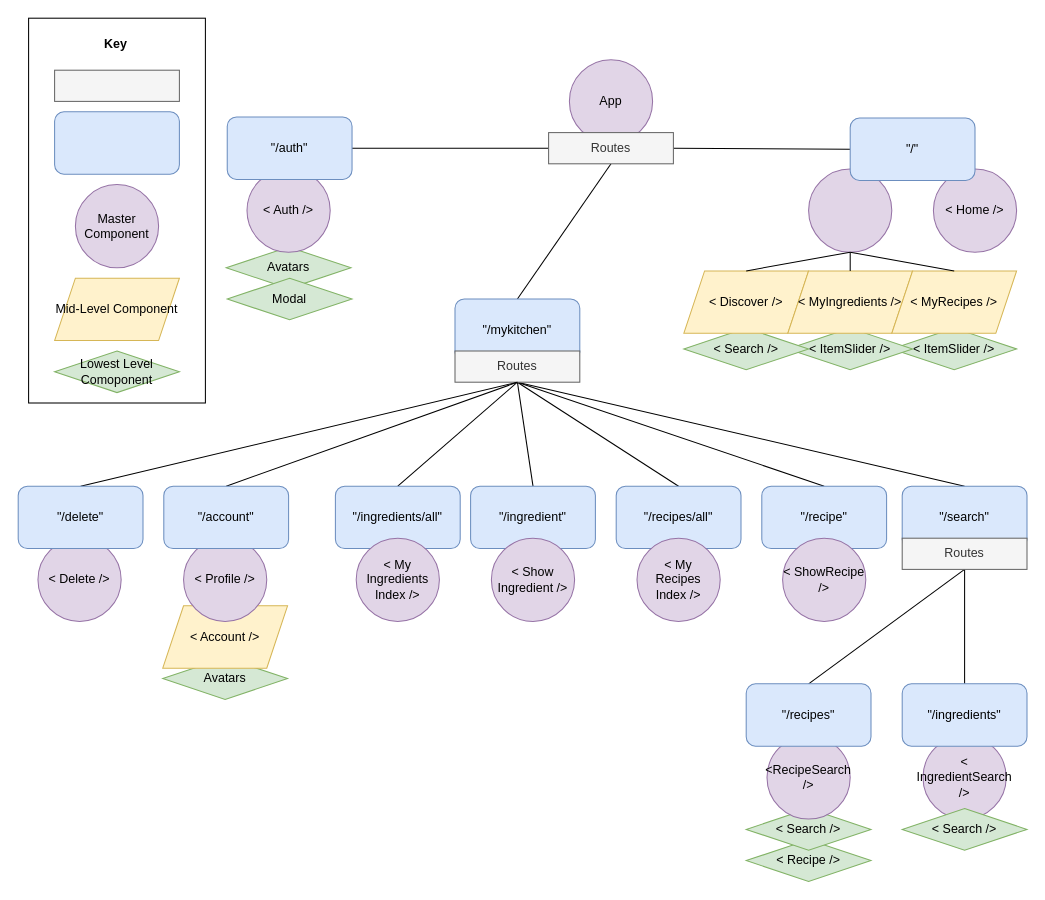
The diagram is 1045 pixels wide and 900 high, and some of its shapes have lost their labels. Each missing label, with the box of its shape:
< Dashboard />: (808, 168, 892, 252)
Route: (54, 111, 179, 174)
Router: (54, 69, 179, 101)
